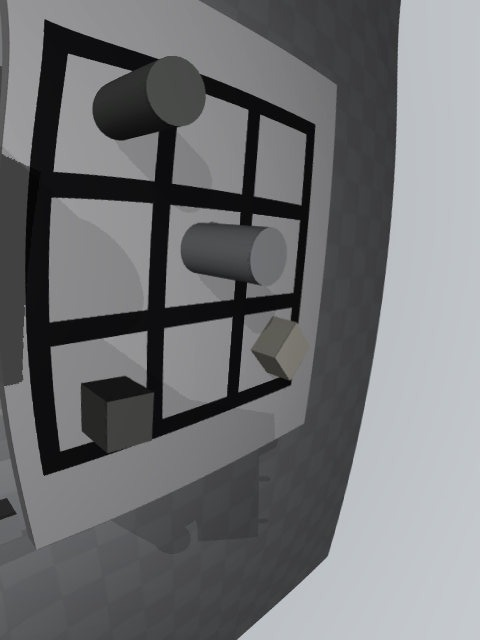can: (181, 223, 287, 287)
cube: (81, 376, 154, 453)
cylinder: (92, 56, 206, 141)
foam: (251, 317, 309, 381)
